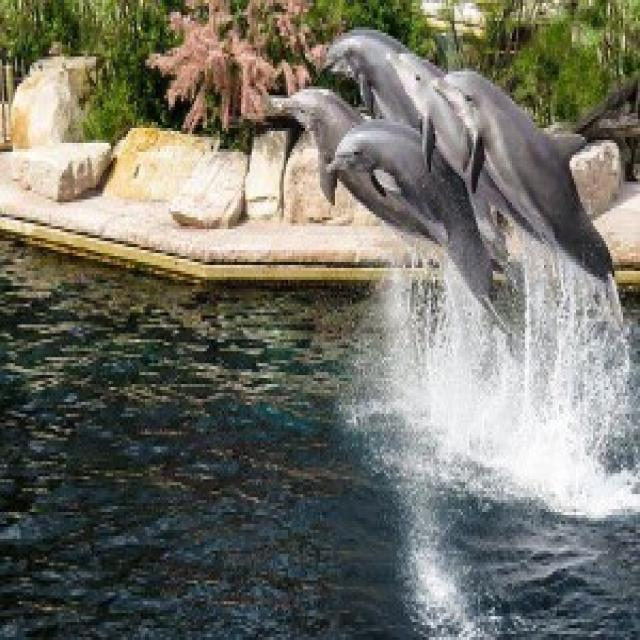Dolphin: (437, 69, 592, 231), (337, 120, 452, 196), (266, 85, 330, 206), (322, 28, 391, 108), (394, 41, 436, 126)
